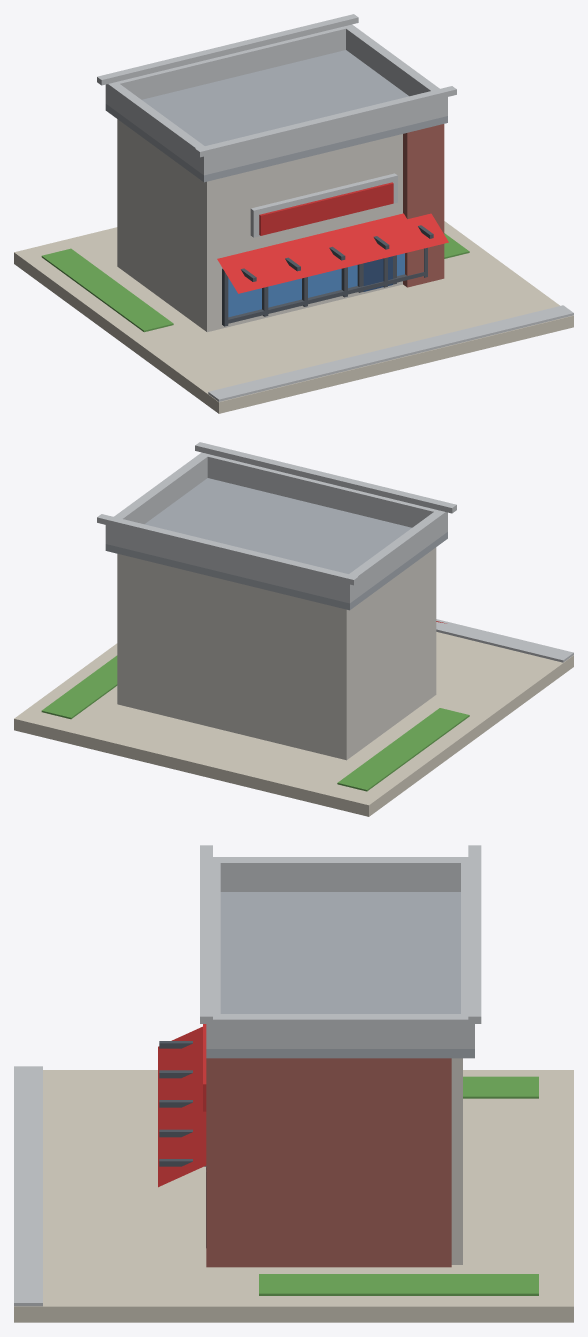
3 views of the same model, one above another, from view 1: azimuth 30°, elevation 25°; view 2: azimuth 150°, elevation 25°; view 3: azimuth 270°, elevation 25° (orthographic). The views are drawn at different scales.
Visible parts, largest first — view 1: b15_v2_lod1; view 2: b15_v2_lod1; view 3: b15_v2_lod1.
Part boxes in pixels (x1,y1,x2,y2): b15_v2_lod1: [14, 14, 573, 413]; b15_v2_lod1: [14, 442, 573, 816]; b15_v2_lod1: [14, 845, 573, 1322].
Bounding box in the file's own units: 0.96 × 0.517 × 0.96.
